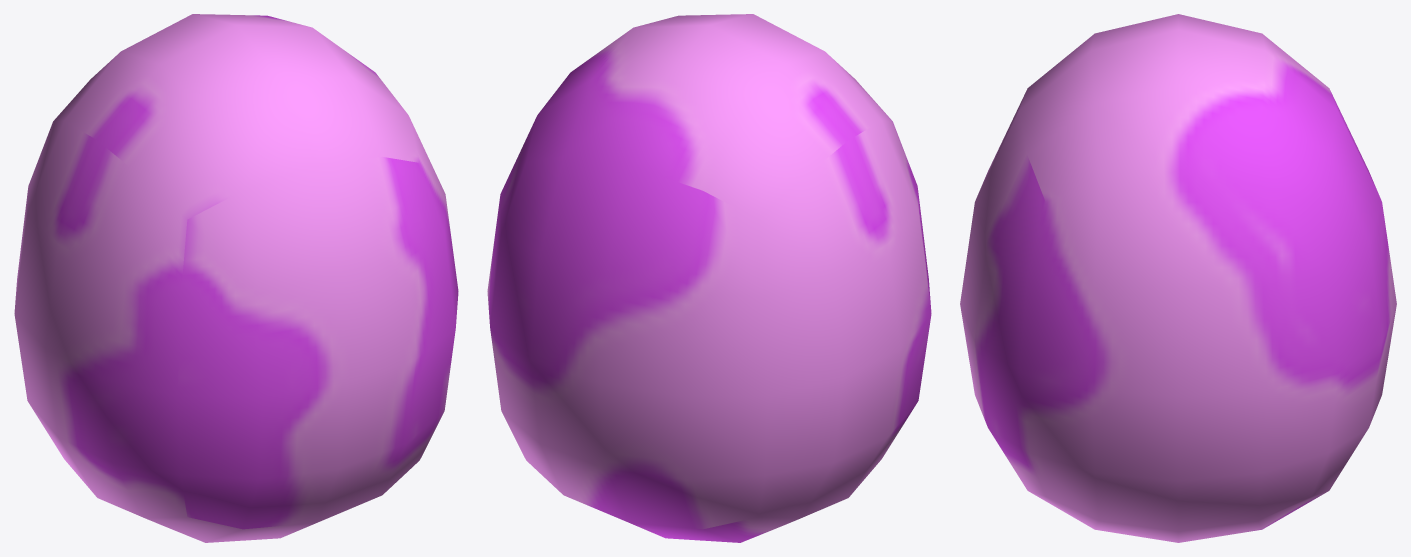
Rendered from Egg.fbx.
3 renders of one model, left to right at view 1: azimuth 30°, elevation 25°; view 2: azimuth 150°, elevation 25°; view 3: azimuth 270°, elevation 25°, orthographic.
Visible parts, largest first — view 1: Egg; view 2: Egg; view 3: Egg.
Part boxes in pixels (x1,y1,x2,y2): Egg: [14, 14, 458, 542]; Egg: [487, 14, 931, 542]; Egg: [960, 14, 1396, 542].
Bounding box in the file's own units: 35.84 × 44.34 × 35.84.
